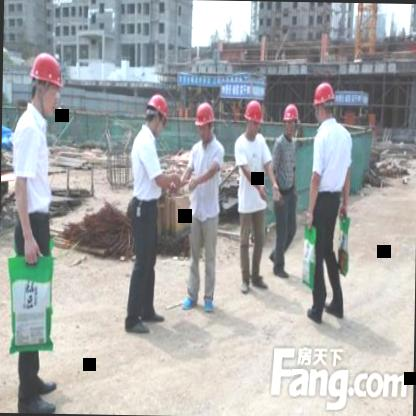helmet: (25, 44, 66, 118), (312, 78, 337, 122), (144, 88, 168, 132), (194, 97, 216, 141), (242, 96, 264, 134), (282, 102, 300, 140)
